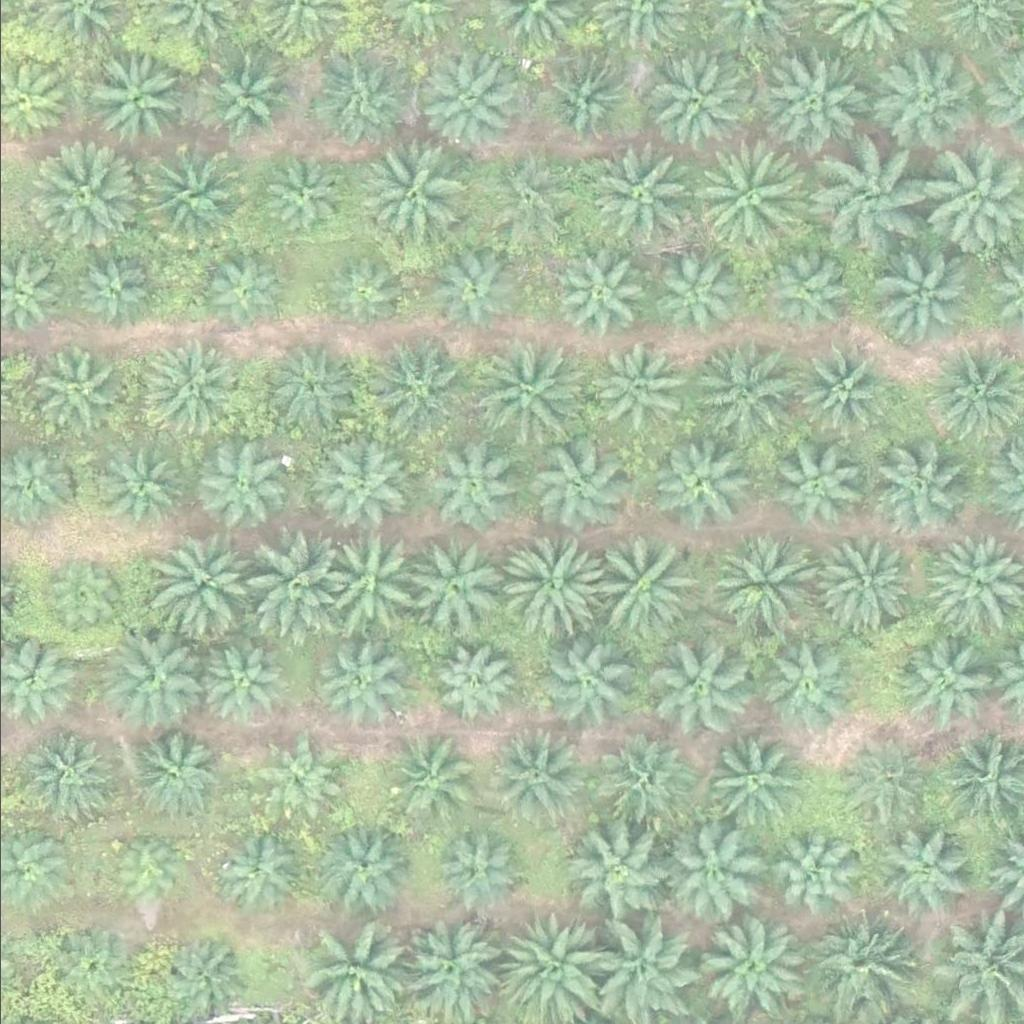Kelapa_Sawit: (816, 137, 941, 262), (751, 43, 865, 156), (641, 633, 755, 746), (865, 43, 978, 156), (363, 144, 476, 257), (688, 339, 801, 452), (466, 338, 579, 451), (411, 46, 524, 159), (130, 143, 243, 255), (31, 139, 144, 251), (492, 911, 605, 1023), (491, 532, 604, 644), (694, 141, 807, 253), (578, 135, 691, 247), (876, 244, 977, 344), (809, 532, 910, 632), (893, 630, 994, 730), (838, 732, 939, 832), (870, 821, 971, 921), (806, 912, 907, 1012), (84, 48, 185, 148), (304, 46, 405, 146), (361, 339, 462, 439), (144, 340, 245, 440), (310, 431, 411, 531), (310, 532, 411, 632), (157, 530, 258, 630), (101, 633, 202, 733), (702, 915, 803, 1015), (658, 822, 759, 922), (701, 733, 802, 833), (408, 540, 509, 640), (421, 434, 522, 534), (525, 438, 626, 538), (647, 433, 748, 533), (588, 340, 689, 440), (637, 54, 738, 154), (923, 341, 1023, 441), (867, 436, 967, 536), (756, 630, 856, 730), (240, 537, 340, 637), (309, 816, 409, 916), (205, 823, 305, 923), (397, 917, 497, 1017), (560, 827, 660, 927), (485, 726, 585, 826), (593, 733, 693, 833), (712, 530, 812, 630), (597, 534, 697, 634), (202, 57, 291, 145), (124, 732, 213, 820), (764, 250, 852, 338), (800, 344, 888, 432), (769, 443, 857, 531), (257, 347, 345, 435), (190, 642, 278, 730), (382, 735, 470, 823), (255, 735, 343, 823), (19, 732, 107, 820), (40, 928, 128, 1016), (429, 822, 517, 910), (430, 248, 518, 336), (482, 153, 570, 241), (547, 58, 635, 146), (99, 444, 188, 531), (555, 251, 644, 338), (759, 830, 847, 917), (260, 157, 348, 244), (317, 250, 405, 337), (196, 247, 284, 334), (66, 252, 154, 339), (28, 346, 116, 433), (190, 444, 278, 531), (31, 550, 119, 637), (311, 639, 399, 726), (539, 640, 627, 727), (431, 641, 519, 728), (645, 247, 733, 334), (104, 835, 180, 910)
